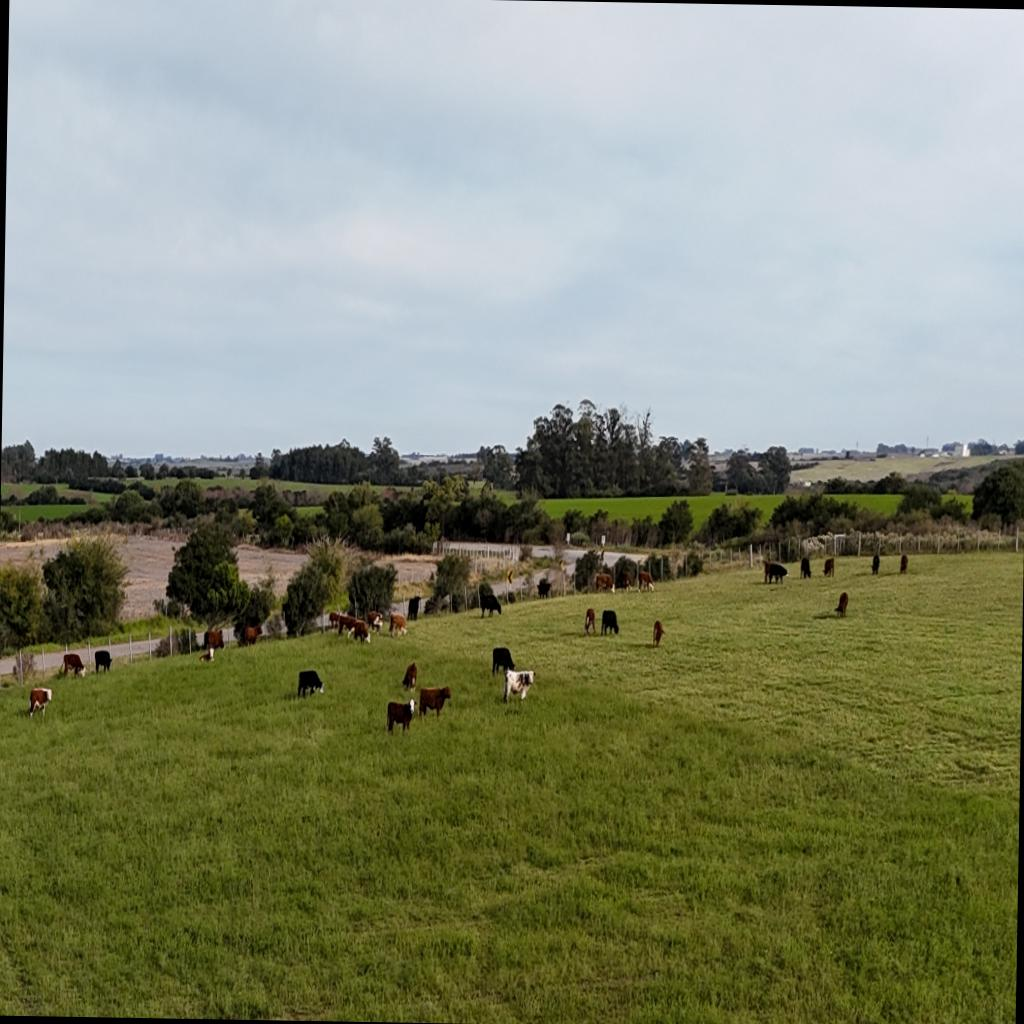cow: (502, 667, 536, 704), (417, 684, 451, 720), (386, 698, 416, 734), (296, 669, 324, 699), (26, 686, 52, 718), (492, 646, 516, 678), (58, 654, 86, 680), (344, 619, 370, 644), (202, 628, 228, 652), (478, 592, 502, 618), (765, 562, 788, 584), (600, 609, 618, 636), (401, 661, 417, 691), (388, 612, 406, 638), (94, 650, 112, 676), (365, 608, 383, 634), (242, 625, 262, 648), (594, 572, 614, 594), (834, 590, 848, 618), (408, 595, 422, 622), (637, 570, 654, 592), (652, 618, 664, 648), (584, 606, 595, 636), (198, 648, 216, 664), (536, 580, 551, 599), (338, 610, 354, 627), (327, 611, 341, 630), (800, 556, 811, 579), (823, 556, 834, 578), (762, 559, 772, 583), (621, 572, 632, 592), (871, 554, 879, 576), (899, 553, 907, 575), (56, 664, 64, 680), (202, 630, 208, 648)
